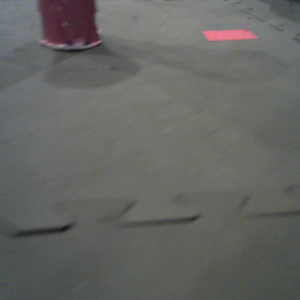middle: (36, 1, 104, 52)
